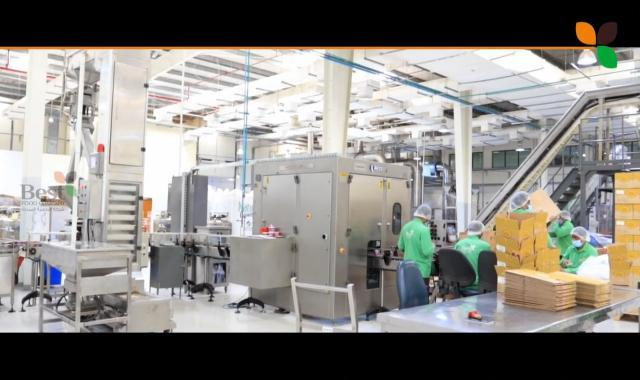hairnet: (511, 189, 530, 212), (570, 228, 590, 245), (413, 203, 431, 220), (466, 221, 483, 236), (560, 211, 570, 222)
